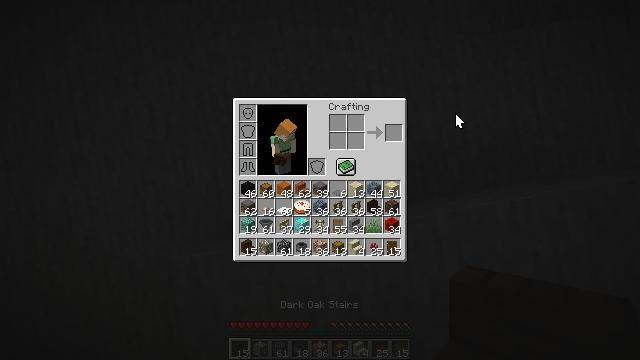cursor: (455, 113, 465, 129)
